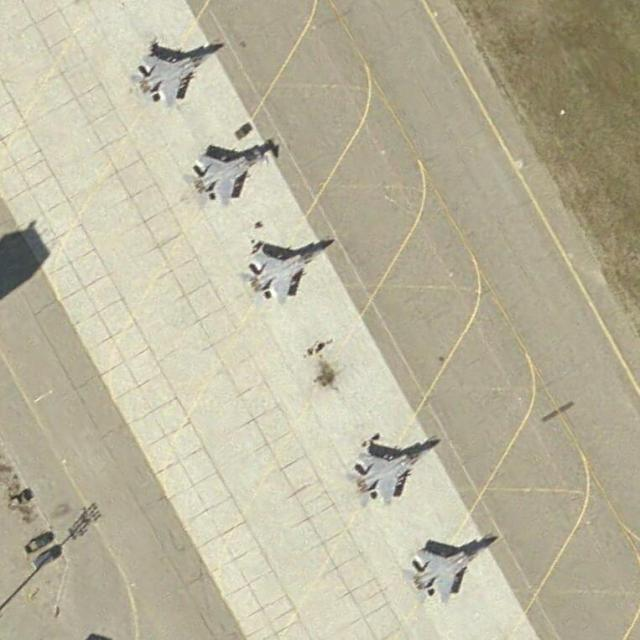fighter jet: (238, 236, 336, 303), (350, 436, 441, 502), (127, 44, 227, 104), (187, 138, 276, 203), (411, 536, 493, 598)
